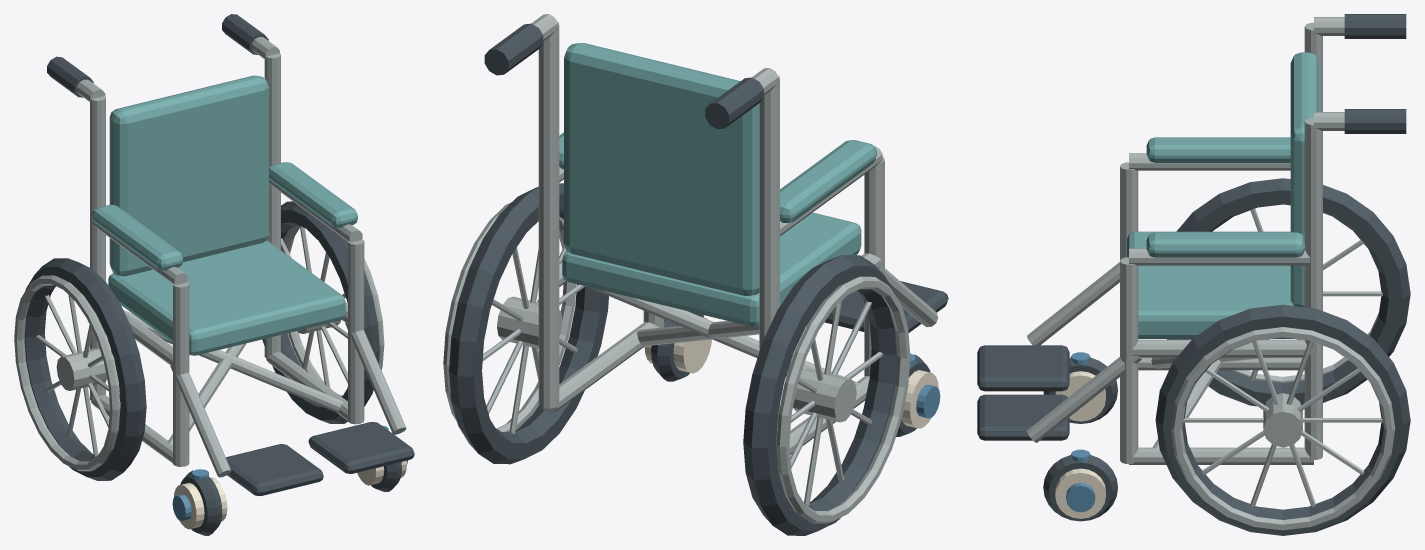
File: transport_T1_wheelchair.glb
The picture shows the model from 3 angles, left to right: view 1: azimuth 30°, elevation 25°; view 2: azimuth 150°, elevation 25°; view 3: azimuth 270°, elevation 25°; orthographic projection. The views are drawn at different scales.
Parts seen in each view (by area): view 1: transport_T1_wheelchair__Static_Assembly, left_rear_wheel__Mesh, right_rear_wheel__Mesh, left_front_caster__Mesh, right_front_caster__Mesh; view 2: transport_T1_wheelchair__Static_Assembly, left_rear_wheel__Mesh, right_rear_wheel__Mesh, left_front_caster__Mesh, right_front_caster__Mesh; view 3: transport_T1_wheelchair__Static_Assembly, right_rear_wheel__Mesh, left_rear_wheel__Mesh, right_front_caster__Mesh, left_front_caster__Mesh.
Part boxes in pixels (bbox=[...]): transport_T1_wheelchair__Static_Assembly: bbox=[14, 14, 414, 495]; left_rear_wheel__Mesh: bbox=[24, 258, 146, 480]; right_rear_wheel__Mesh: bbox=[262, 201, 379, 423]; left_front_caster__Mesh: bbox=[172, 470, 227, 535]; right_front_caster__Mesh: bbox=[357, 434, 407, 491]; transport_T1_wheelchair__Static_Assembly: bbox=[443, 14, 948, 523]; left_rear_wheel__Mesh: bbox=[743, 255, 897, 535]; right_rear_wheel__Mesh: bbox=[449, 183, 608, 464]; left_front_caster__Mesh: bbox=[896, 354, 940, 436]; right_front_caster__Mesh: bbox=[644, 311, 711, 381]; transport_T1_wheelchair__Static_Assembly: bbox=[977, 14, 1406, 530]; right_rear_wheel__Mesh: bbox=[1155, 304, 1410, 535]; left_rear_wheel__Mesh: bbox=[1167, 178, 1410, 406]; right_front_caster__Mesh: bbox=[1043, 455, 1117, 521]; left_front_caster__Mesh: bbox=[1043, 357, 1117, 423].
Bounding box in the file's own units: 0.7925 × 1.03 × 0.985.
